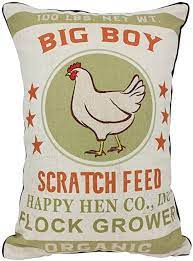feed_bag: (1, 1, 193, 261)
